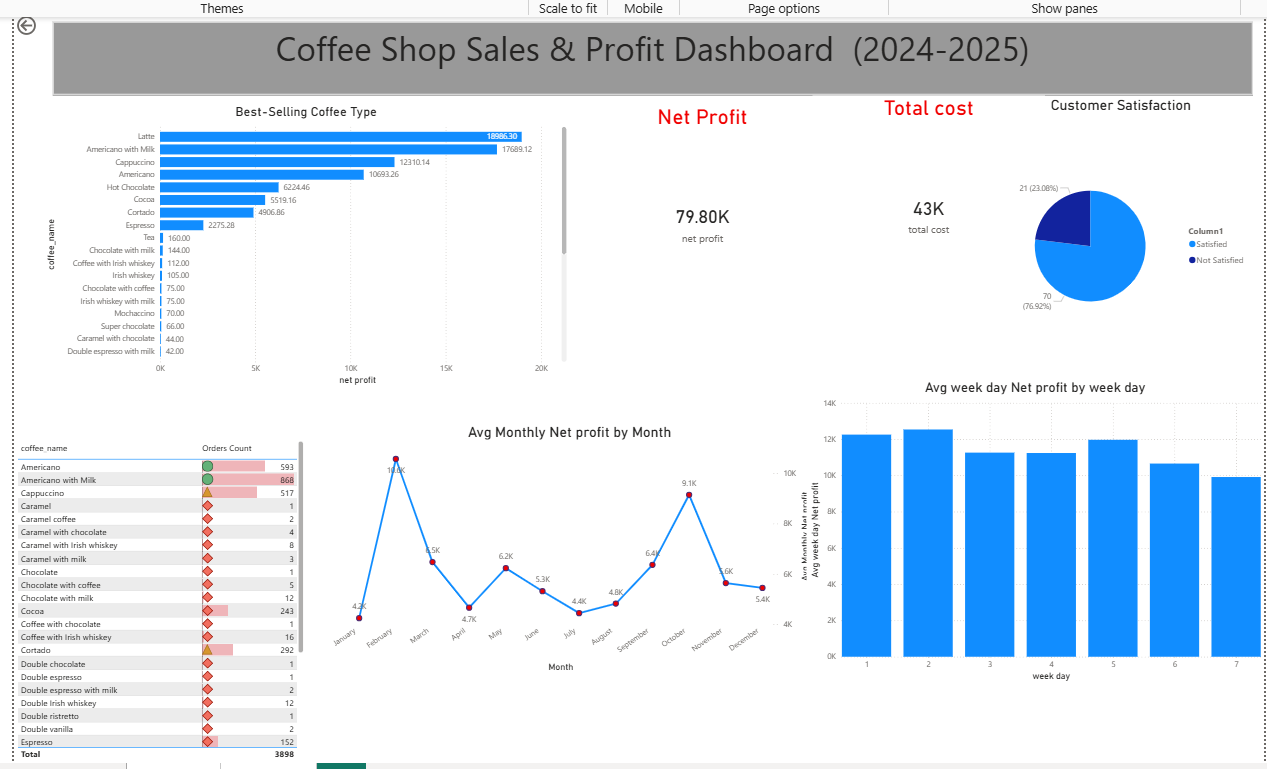

The page's visual inventory and layout, read from the dashboard file:
{"tool":"powerbi","page":{"name":"Page 1","canvas":[2000,1200],"ordinal":0},"visuals":[{"type":"textbox","box":[62,14,1920,118],"z":0},{"type":"card","title":"Net Profit","fields":{"Values":["Sheet1.net measure"]},"box":[925.7,145.7,351.4,341.4],"z":1},{"type":"card","title":"Total cost","fields":{"Values":["Sheet1.total cost"]},"box":[1277.1,132.9,371.4,341.4],"z":2},{"type":"clusteredBarChart","title":"Best-Selling Coffee Type","fields":{"Category":["index_1.coffee_name"],"Y":["Sheet1.net measure"]},"box":[46.7,145,843.3,455],"z":3},{"type":"lineChart","fields":{"Category":["index_1.date.Variation.Date Hierarchy.Month"],"Y2":["Sheet1.Avg Monthly Net Measure"]},"box":[500,656,778,404],"z":4},{"type":"actionButton","box":[0,0,100,40],"z":7},{"type":"pieChart","title":"Customer Satisfaction","fields":{"Category":["Sheet1 (3).Column1"],"Y":["Sheet1 (3).Not Satisfied Count"]},"box":[1560,134,422,452],"z":8},{"type":"columnChart","fields":{"Category":["index_1.week day"],"Y":["index_1.Avg  week day Net profit"]},"box":[1268,586,732,488],"z":9},{"type":"tableEx","fields":{"Values":["index_1.coffee_name","index_1.Orders Count"]},"box":[0,680,468,520],"z":10}]}

Visuals, with their boxes on the page's 2000x1200 design canvas (x1, y1, x2, y2). These are canvas units, not pixel positions in the 1267x769 screenshot, which may show the page scaled, cropped or inside an application window:
textbox: x1=62, y1=14, x2=1982, y2=132
"Net Profit" card: x1=926, y1=146, x2=1277, y2=487
"Total cost" card: x1=1277, y1=133, x2=1648, y2=474
"Best-Selling Coffee Type" clusteredBarChart: x1=47, y1=145, x2=890, y2=600
lineChart - index_1.date.Variation.Date Hierarchy.Month x Sheet1.Avg Monthly Net Measure: x1=500, y1=656, x2=1278, y2=1060
actionButton: x1=0, y1=0, x2=100, y2=40
"Customer Satisfaction" pieChart: x1=1560, y1=134, x2=1982, y2=586
columnChart - index_1.week day x index_1.Avg  week day Net profit: x1=1268, y1=586, x2=2000, y2=1074
tableEx - index_1.coffee_name x index_1.Orders Count: x1=0, y1=680, x2=468, y2=1200
